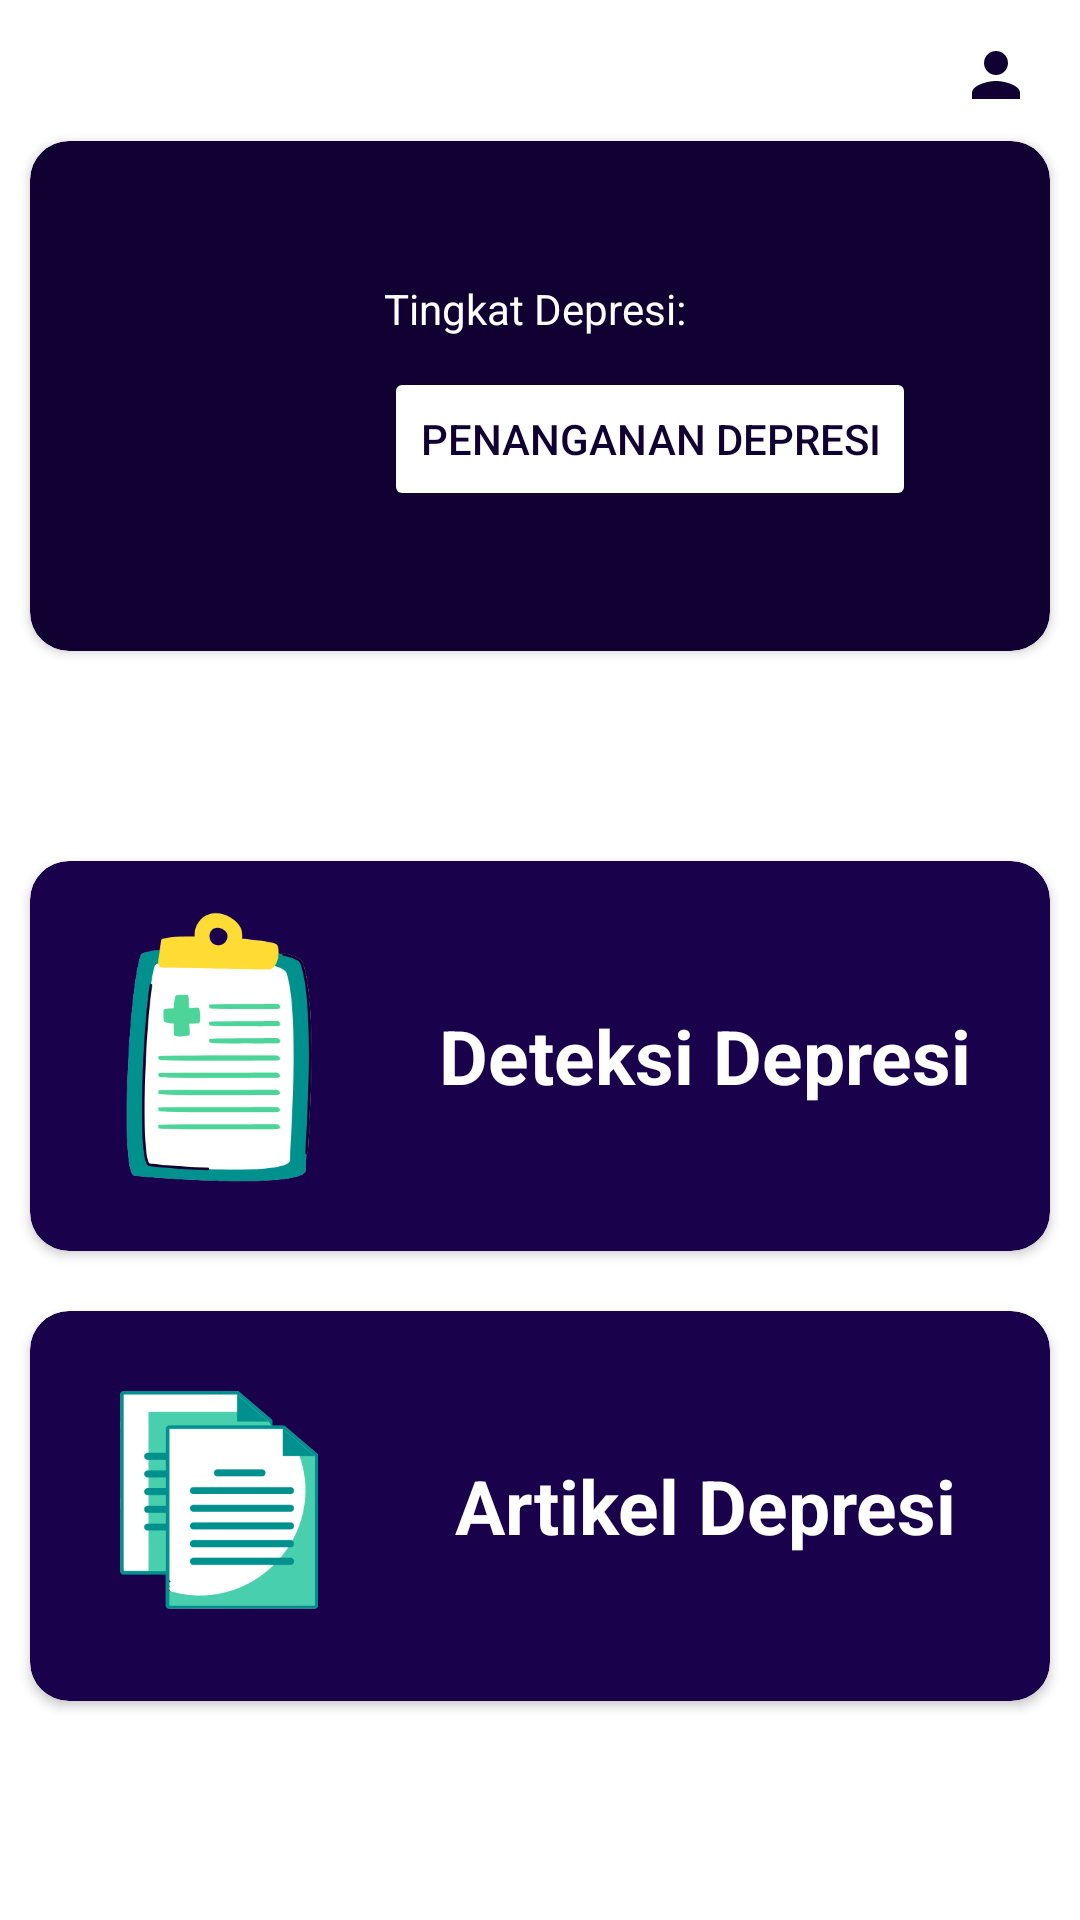

Where icons sit on this 1080px x 1920px app screen, as (x1, y1, x2, y2):
person: (972, 51, 1020, 99)
